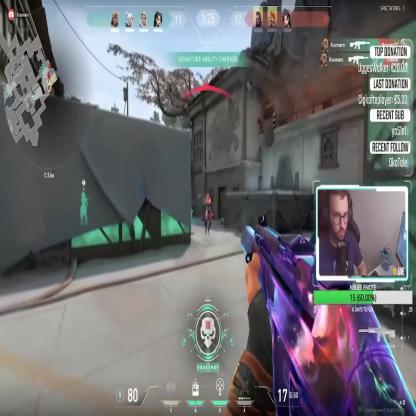enemy: (202, 192, 212, 235)
enemy_head: (206, 192, 209, 200)
